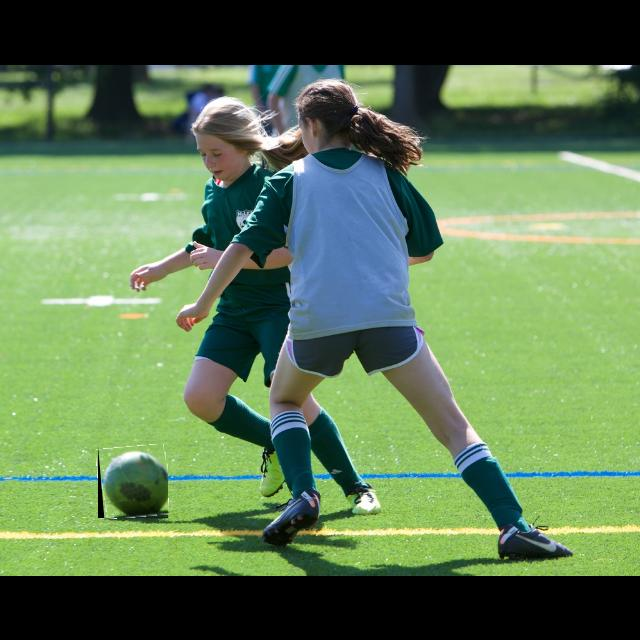Football: (98, 446, 168, 518)
